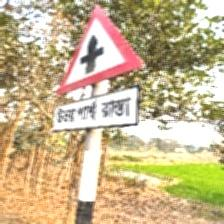Crossroad: (53, 2, 146, 135)
